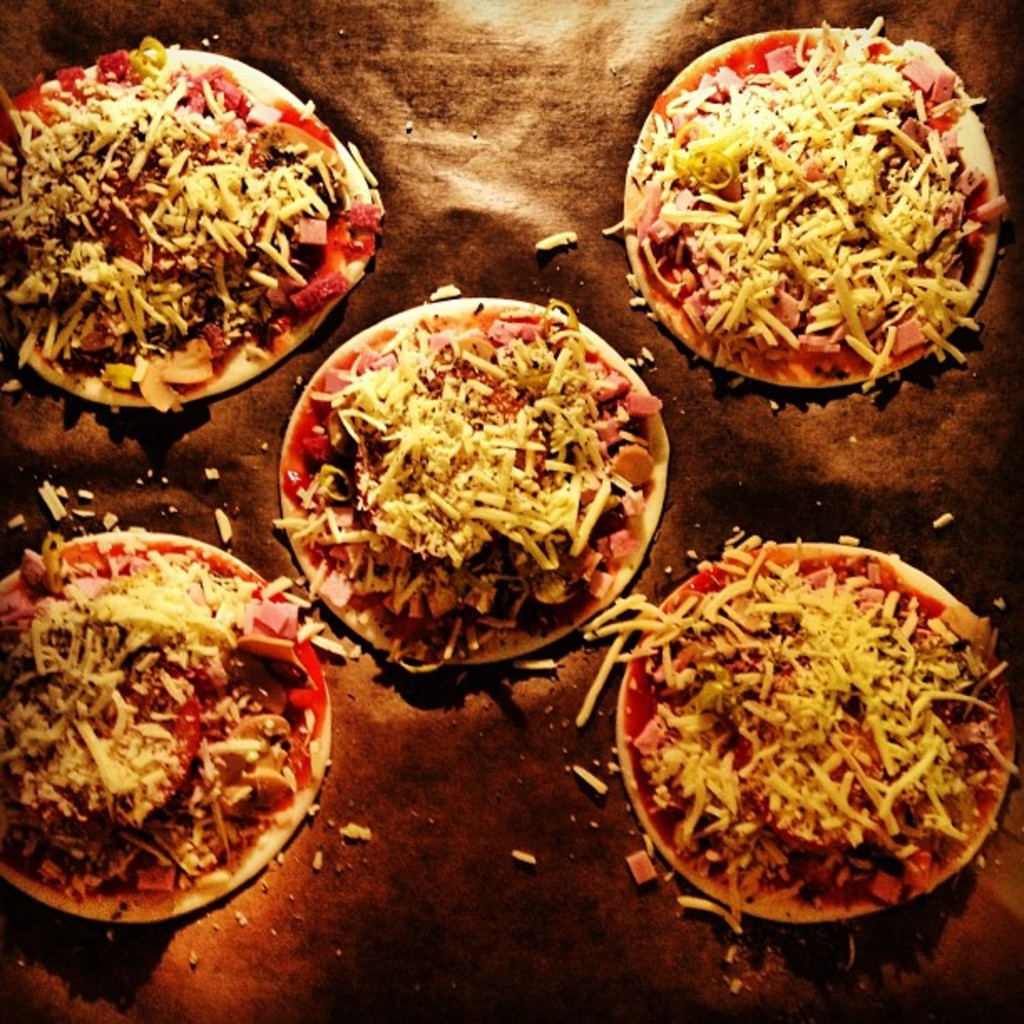Pizza: (609, 538, 1015, 923), (0, 33, 381, 423), (271, 297, 670, 669), (617, 21, 1013, 386), (6, 525, 336, 931)
